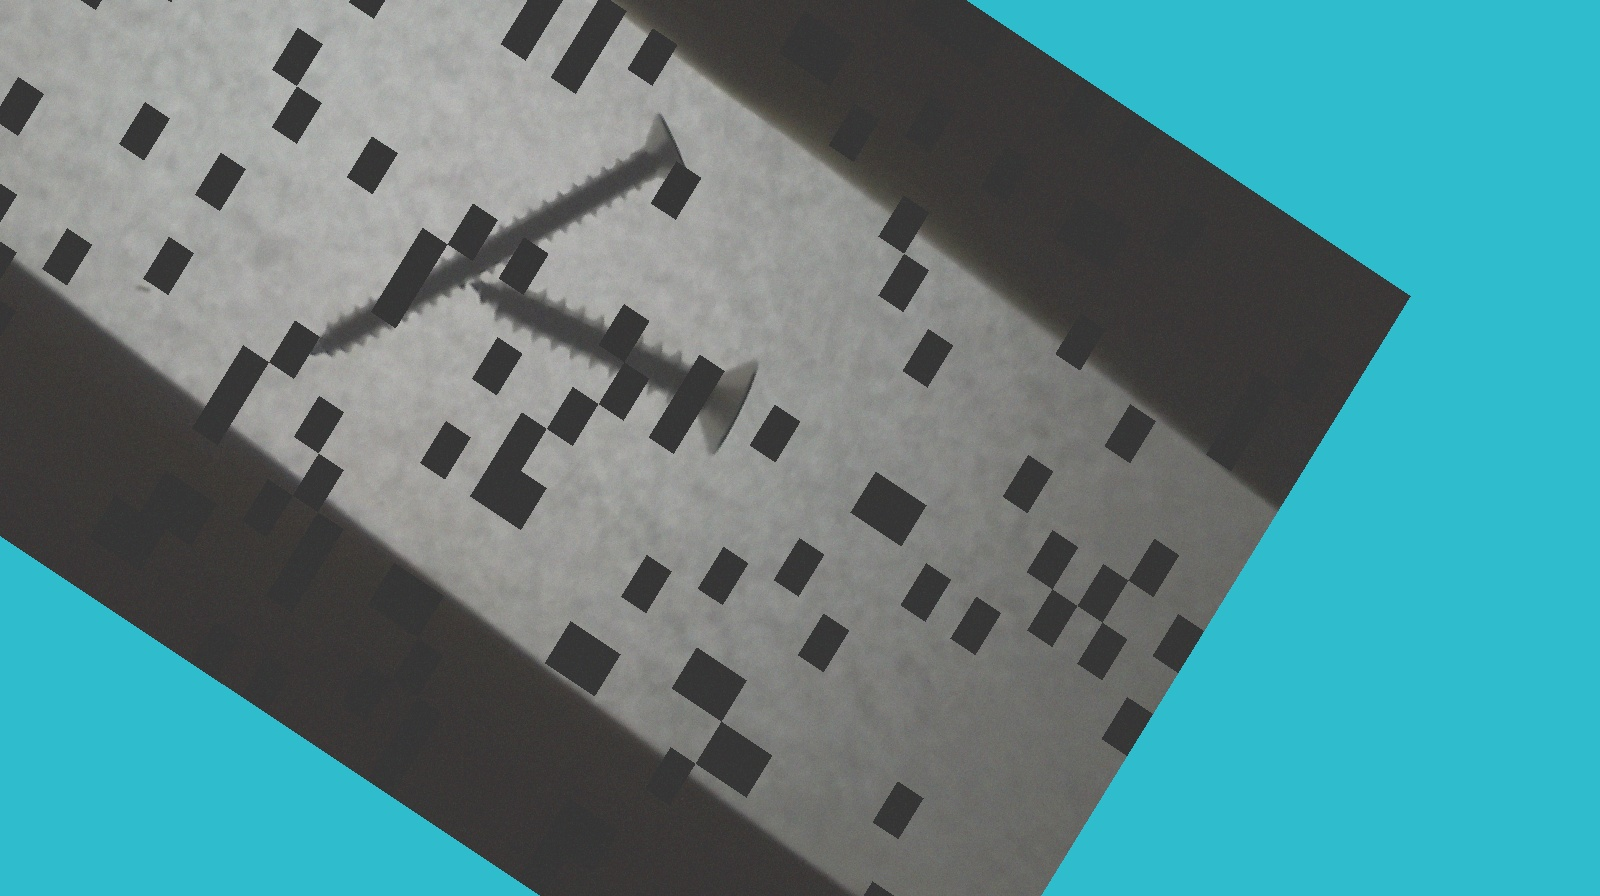S001: (449, 186, 784, 473)
S002: (277, 0, 726, 506)
